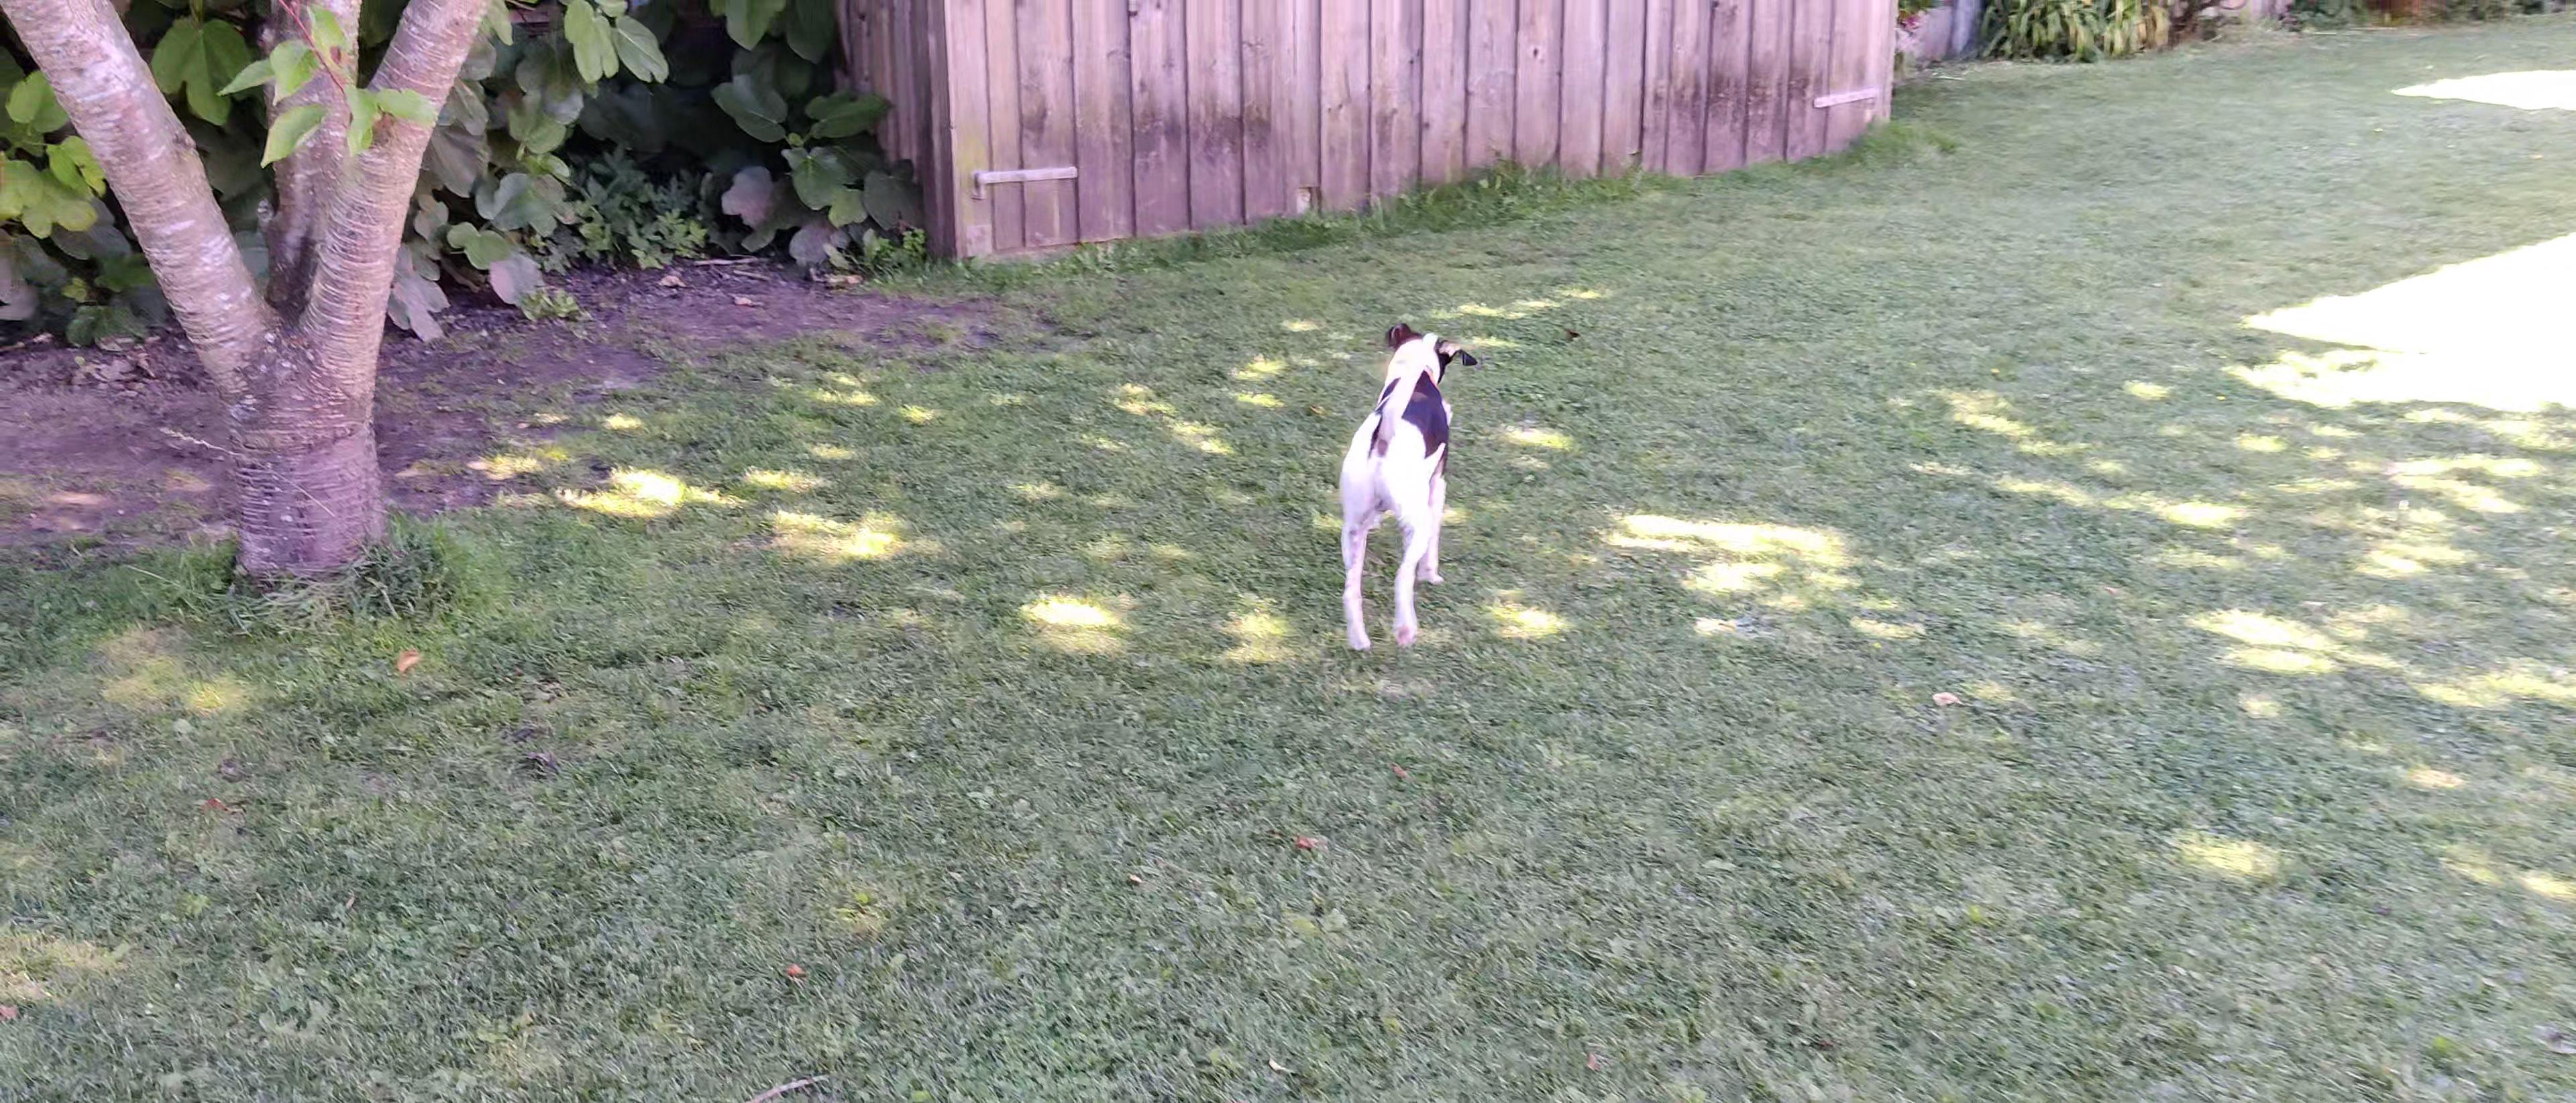Dog: (1329, 316, 1487, 649)
